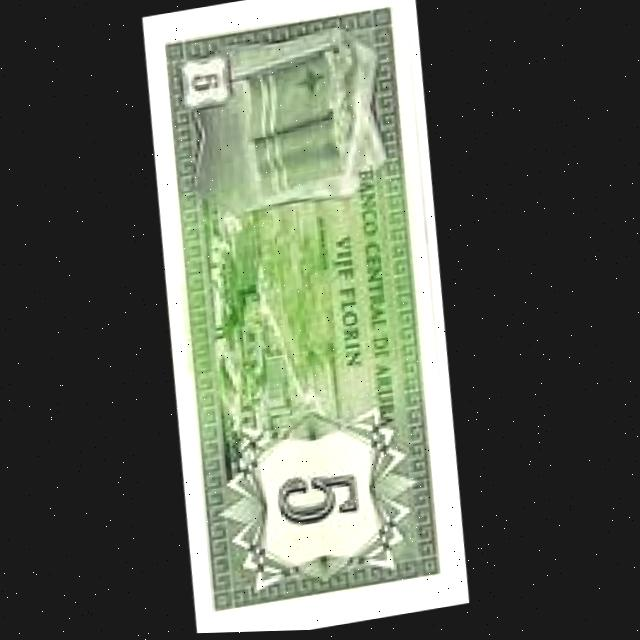banknote: (127, 0, 502, 636)
